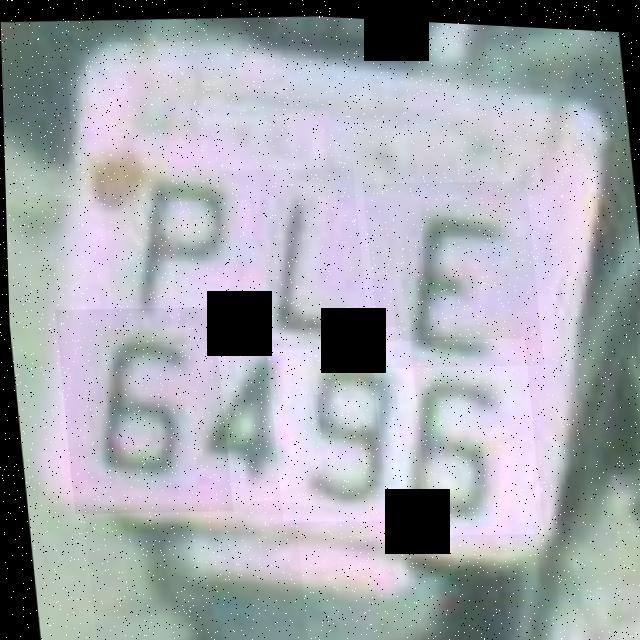3: (361, 168, 542, 370), (79, 490, 305, 640)
4: (162, 315, 323, 512)
6: (53, 298, 232, 520), (368, 326, 541, 538)
9: (262, 316, 424, 525)
J: (217, 159, 368, 354)
P: (97, 154, 248, 349)
